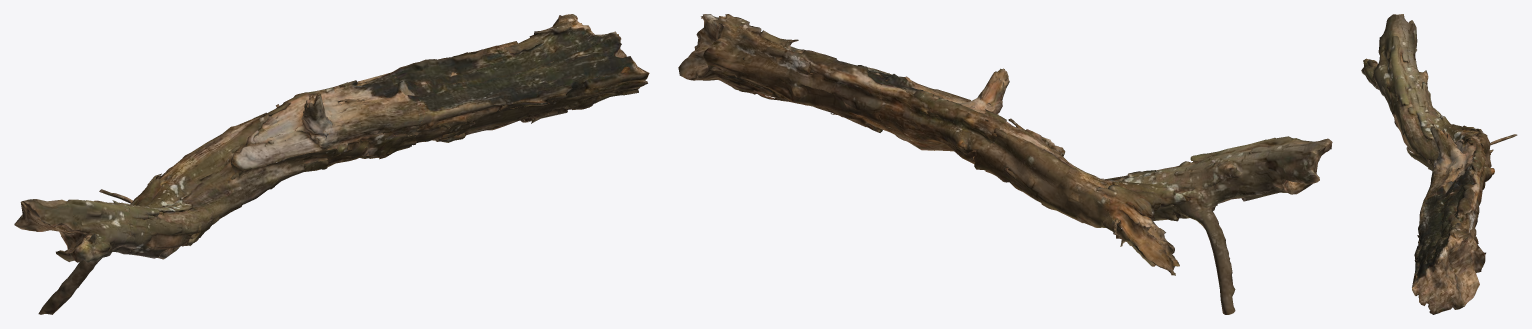
Rendered from dead_tree_trunk_02.glb.
3 renders of one model, left to right at view 1: azimuth 30°, elevation 25°; view 2: azimuth 150°, elevation 25°; view 3: azimuth 270°, elevation 25°, orthographic. The views are drawn at different scales.
Parts seen in each view (by area): view 1: dead_tree_trunk_02; view 2: dead_tree_trunk_02; view 3: dead_tree_trunk_02.
Boxes of the visible parts, x1,y1,x2,y2 form: dead_tree_trunk_02: (14,14,649,314); dead_tree_trunk_02: (678,14,1332,314); dead_tree_trunk_02: (1361,14,1517,314).
Bounding box in the file's own units: 4.05 × 1.06 × 1.06.
Materials: 1 (1 with a texture image).
